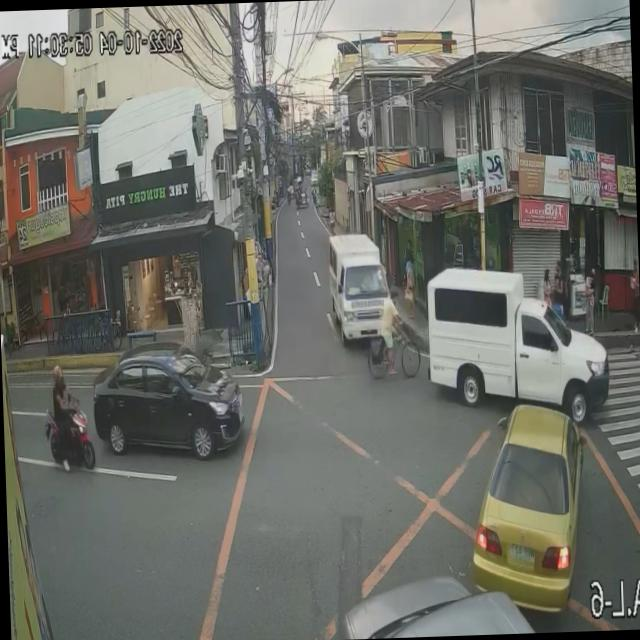half: (51, 364, 64, 386)
